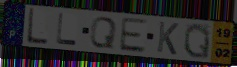E: (117, 16, 148, 54)
K: (155, 20, 180, 56)
L: (25, 7, 49, 46), (55, 12, 79, 47)
Q: (183, 22, 212, 61), (88, 15, 119, 49)
